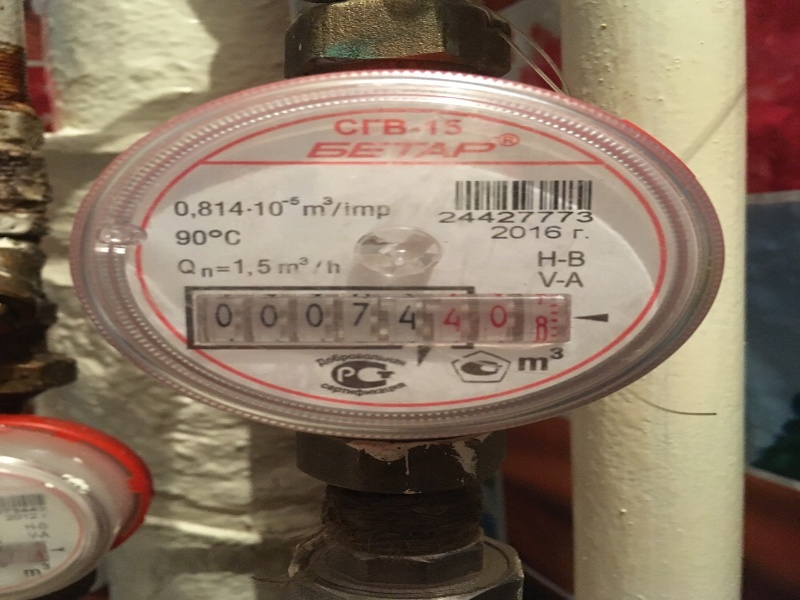meter: (180, 283, 567, 343)
